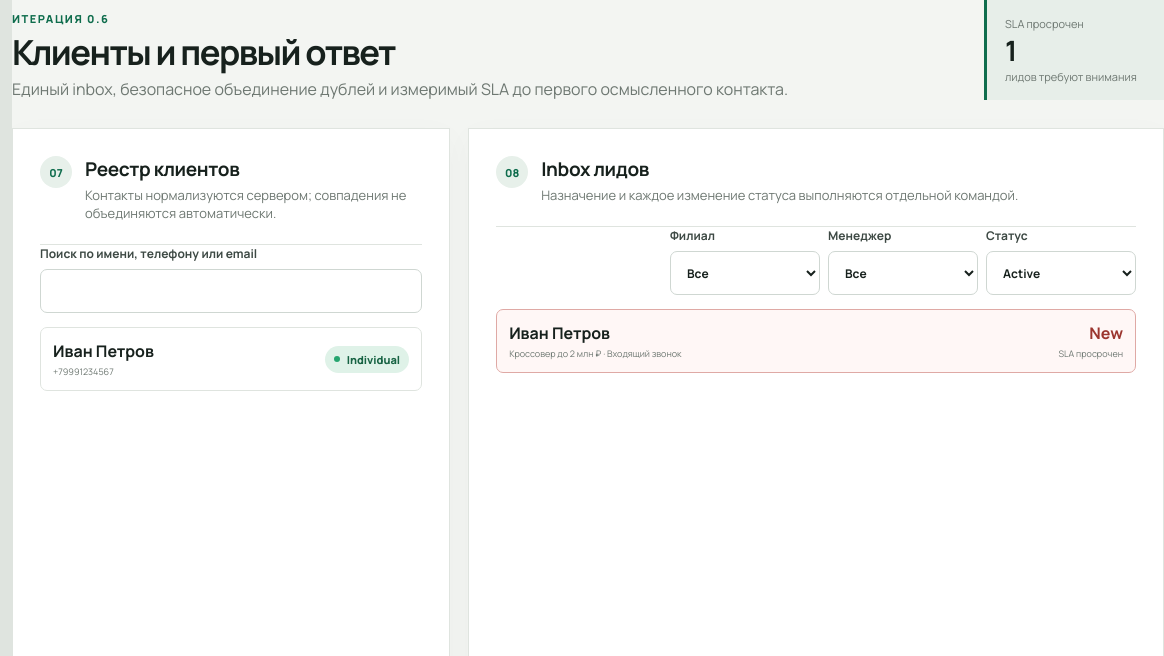
CrmWorkspace › shows an overdue lead and records the first meaningful contact through explicit commands
Click the button "Кроссовер до 2 млн ₽ · Входящий звонок" at (560, 333), box [496,309,1136,373]
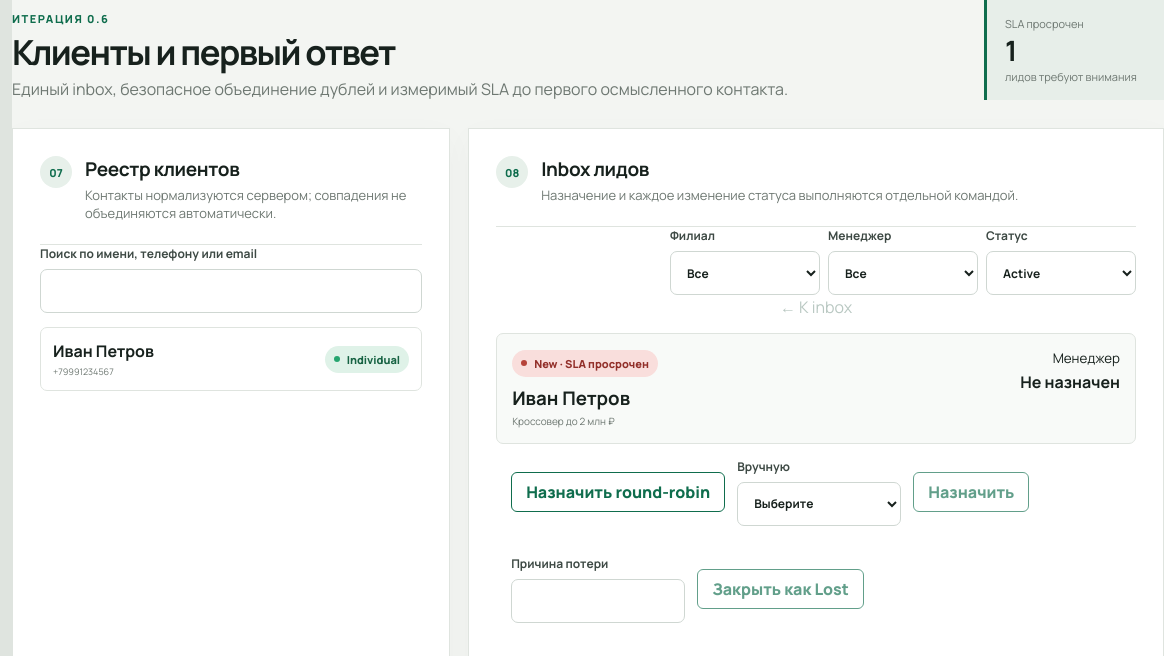
Click the button "Назначить round-robin" at (618, 492), box [511,472,725,512]
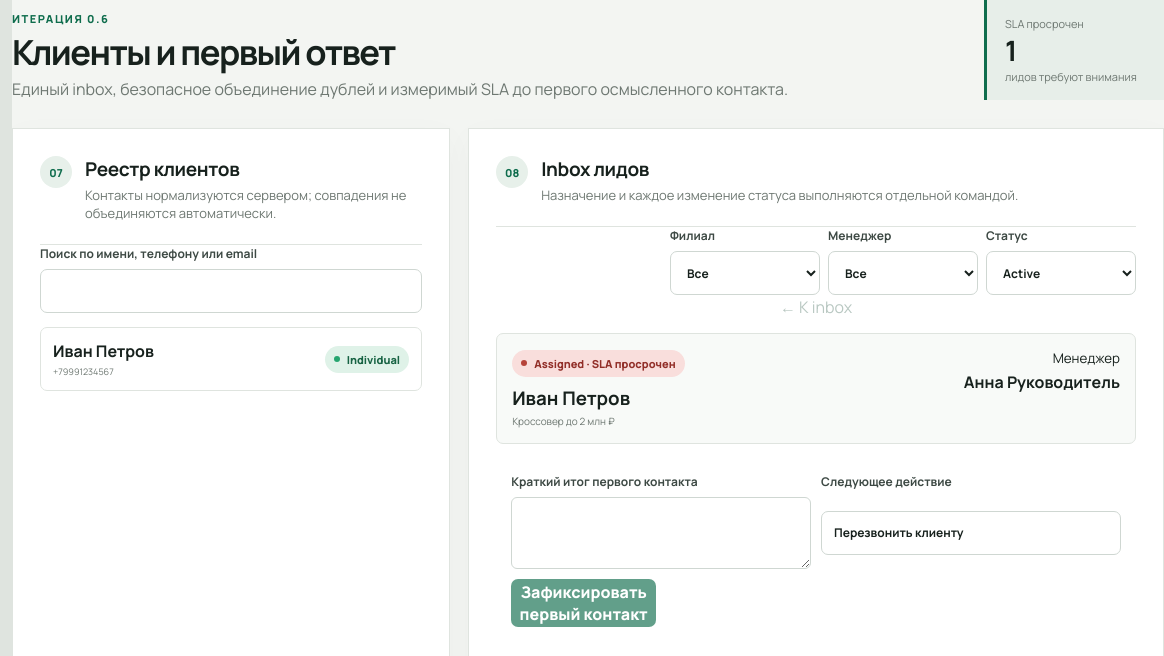
Result: the text "Анна Руководитель" is shown at [964,371,1120,393]
Type "Клиент подтвердил интерес" into the text box labelled "итог первого контакта" at (661, 532), box [511,496,811,568]
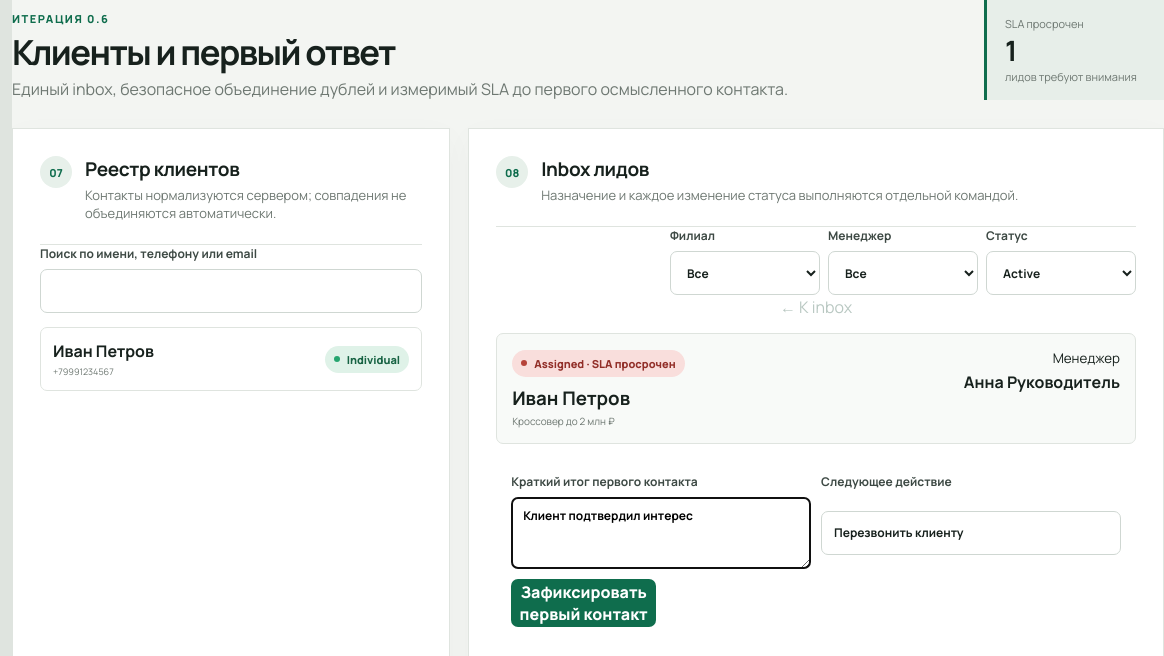
Click the button "Зафиксировать первый контакт" at (584, 602), box [511,578,656,626]
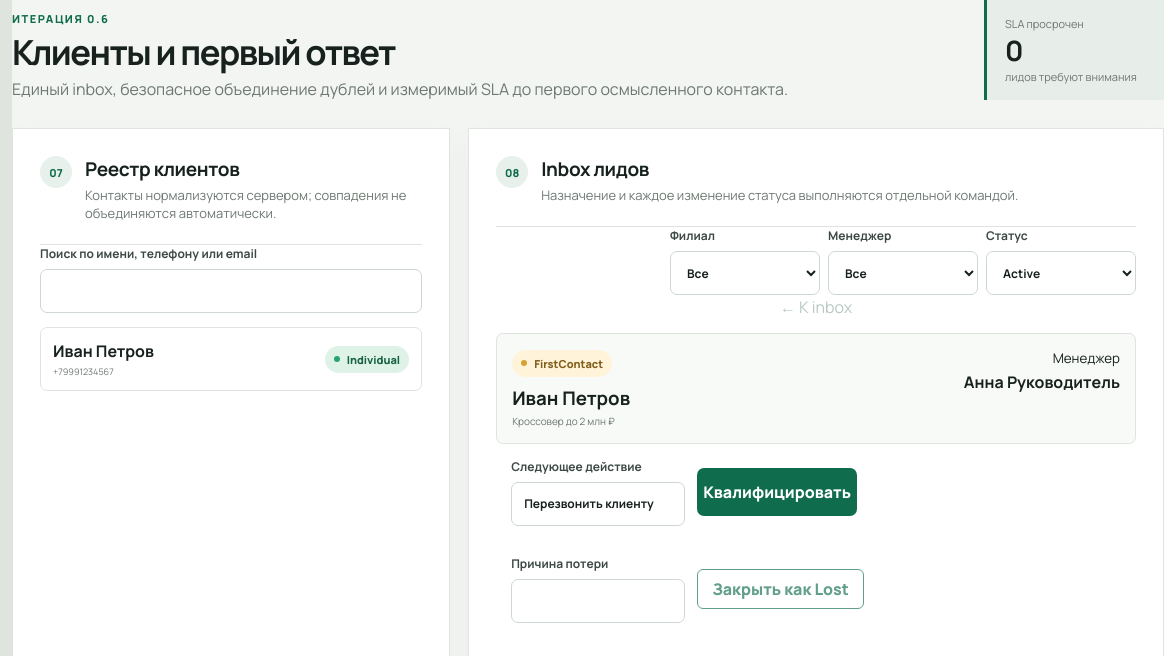
Result: the text "FirstContact" is shown at [512,350,612,376]
